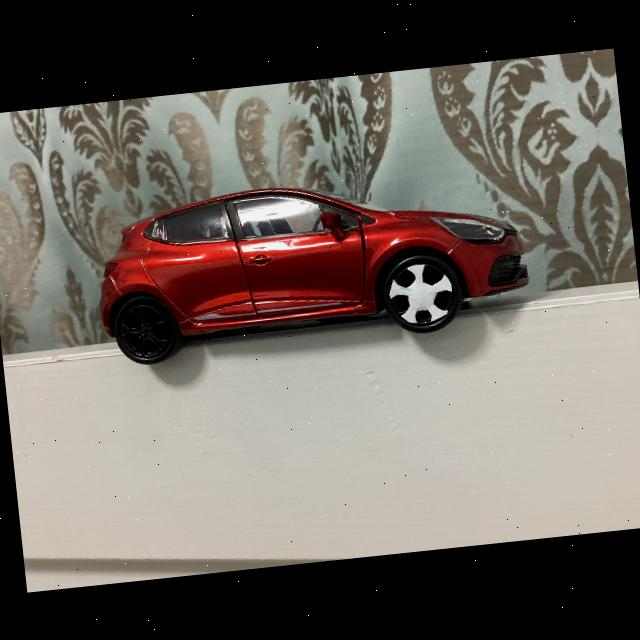Dogru_Jant: (118, 302, 170, 359)
Yanlis_Jant: (386, 260, 456, 328)
